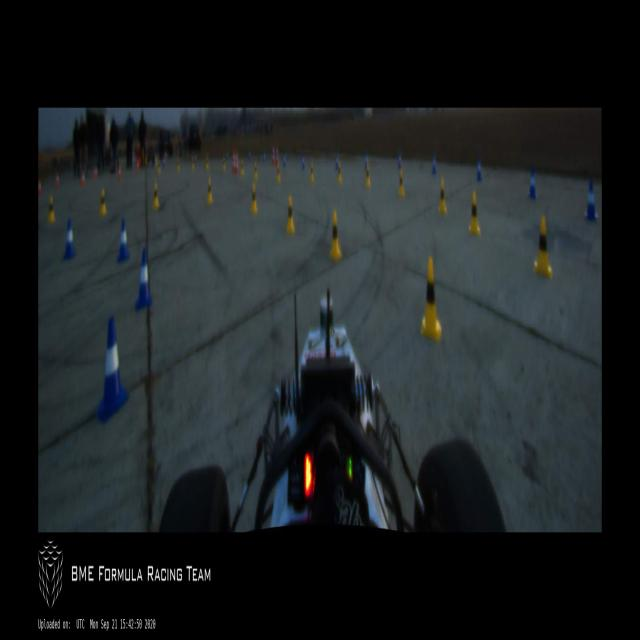blue_cone: (95, 317, 128, 421), (135, 248, 151, 306), (584, 180, 597, 223), (118, 220, 130, 262), (64, 218, 76, 258), (528, 166, 537, 200), (476, 154, 482, 181), (431, 152, 437, 174), (397, 149, 402, 171), (335, 155, 339, 170), (262, 150, 266, 164), (302, 156, 306, 169), (283, 154, 286, 168), (248, 149, 251, 162), (226, 149, 228, 161)
large_orange_cone: (231, 149, 235, 174), (235, 149, 239, 174), (274, 145, 278, 166), (271, 146, 275, 165)
orange_cone: (80, 171, 86, 185), (38, 176, 42, 196), (56, 172, 60, 188), (94, 163, 98, 179), (118, 163, 121, 179)
yellow_cone: (420, 258, 442, 342), (534, 215, 553, 277), (328, 211, 340, 260), (470, 192, 480, 232), (285, 196, 295, 235), (438, 178, 447, 216), (47, 193, 56, 224), (251, 184, 259, 216), (98, 188, 107, 215), (398, 172, 406, 197), (152, 182, 159, 209), (206, 178, 212, 204), (365, 163, 371, 188), (337, 161, 343, 182), (276, 162, 281, 184), (310, 162, 314, 182), (254, 161, 258, 181), (240, 159, 244, 176), (222, 155, 226, 171), (191, 155, 195, 169), (157, 157, 160, 172), (177, 156, 180, 170), (205, 155, 208, 169)
